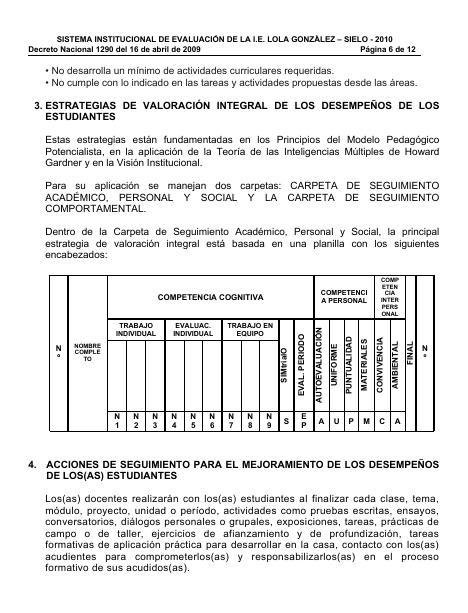table: (46, 272, 440, 437)
text: (39, 490, 441, 574), (41, 223, 442, 261), (40, 178, 446, 215), (40, 132, 444, 169), (29, 98, 443, 125), (50, 63, 418, 90), (21, 460, 446, 482), (27, 34, 420, 54)
